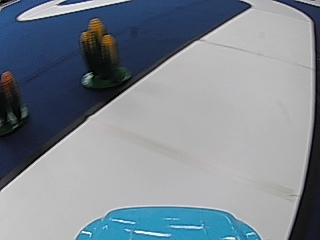corn: (76, 17, 130, 88), (0, 69, 30, 136)
